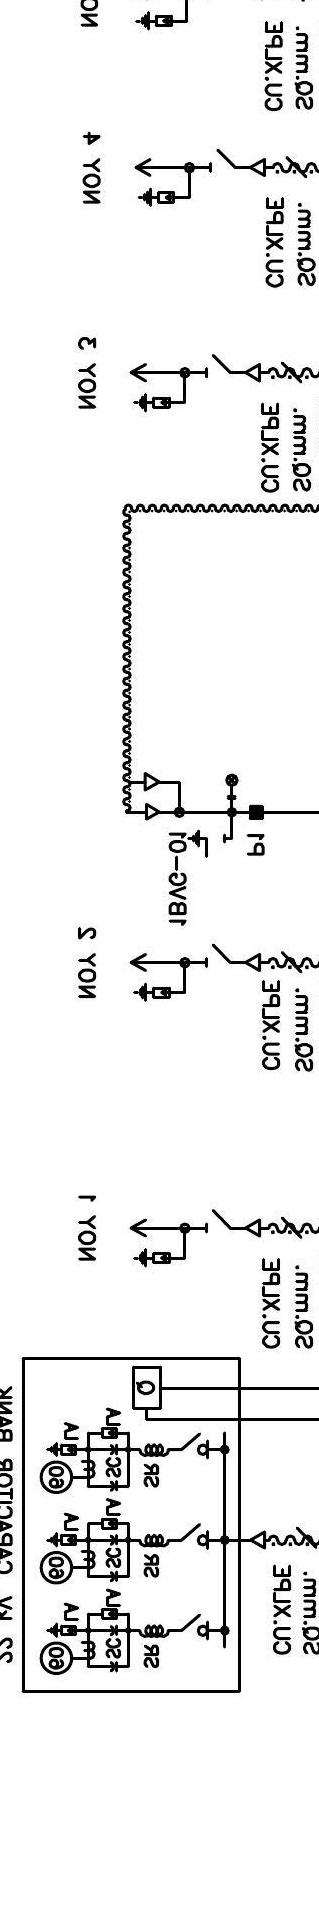22_cap_bank: (21, 1357, 242, 1695)
22_ds_la_out: (128, 1208, 231, 1268), (128, 353, 231, 412), (130, 942, 231, 1002), (133, 148, 235, 207)
22_gs: (187, 828, 226, 859)
22_ll: (224, 772, 240, 800)
Q: (131, 1365, 163, 1410)
terminator_double: (143, 771, 182, 821)
terminator_single: (244, 952, 263, 972), (249, 1529, 266, 1551), (244, 1218, 262, 1238), (244, 362, 262, 383), (249, 157, 266, 177)
